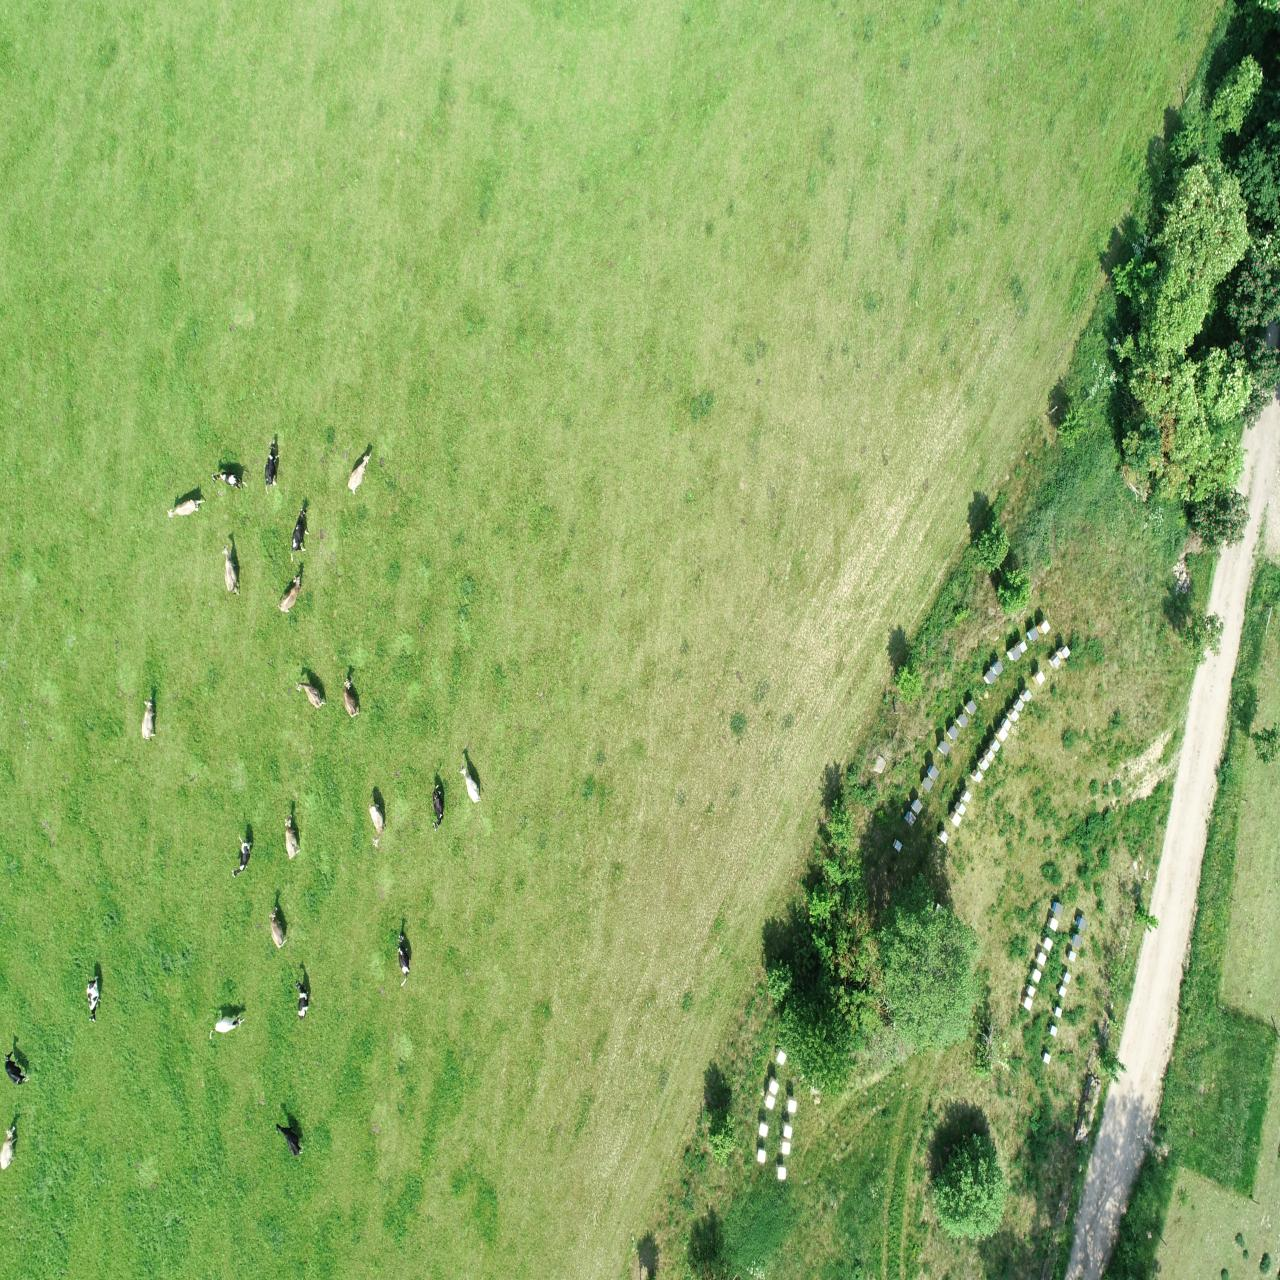cow: (218, 543, 244, 600), (457, 760, 485, 811), (288, 505, 313, 564), (231, 829, 257, 884), (346, 450, 375, 498), (265, 904, 291, 956), (261, 437, 282, 497), (273, 1121, 305, 1160), (275, 572, 304, 617), (2, 1049, 33, 1090), (293, 678, 328, 713), (81, 972, 104, 1024), (207, 1012, 247, 1042), (395, 926, 413, 994), (430, 781, 451, 837), (281, 810, 304, 863), (341, 673, 362, 727), (165, 495, 205, 523), (367, 801, 387, 856), (211, 468, 250, 495), (141, 694, 161, 744), (0, 1122, 20, 1170), (294, 976, 312, 1028)
